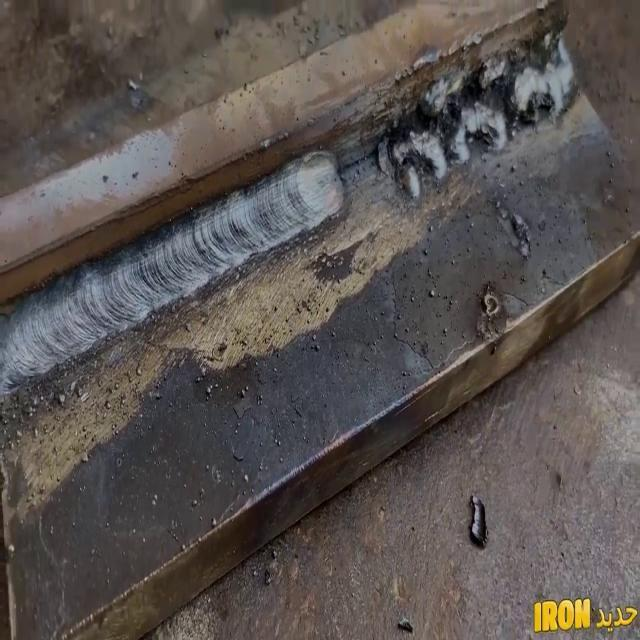Bad Weld: (378, 24, 580, 198)
Good Weld: (3, 150, 344, 398)
